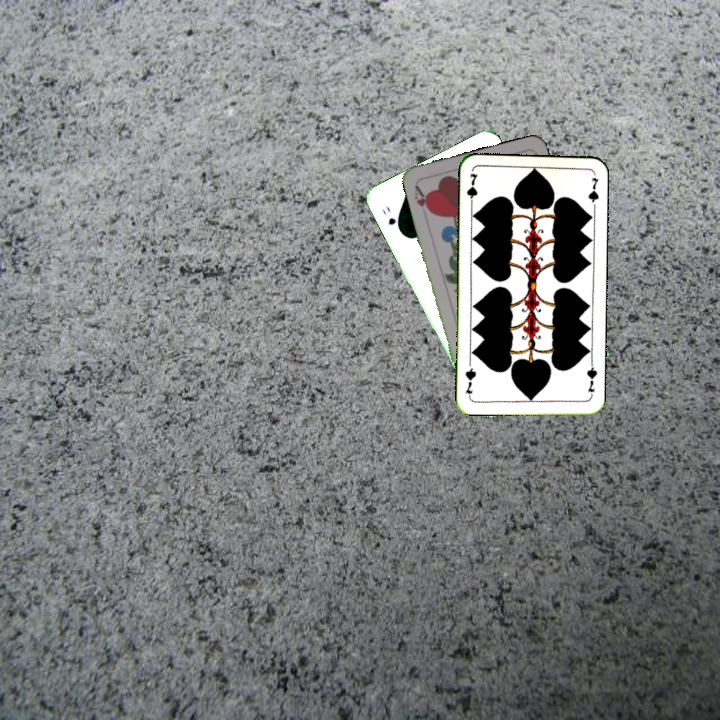G7: (582, 359, 600, 400), (463, 169, 480, 210)
GO: (378, 202, 404, 235)
HA: (410, 181, 434, 216)
